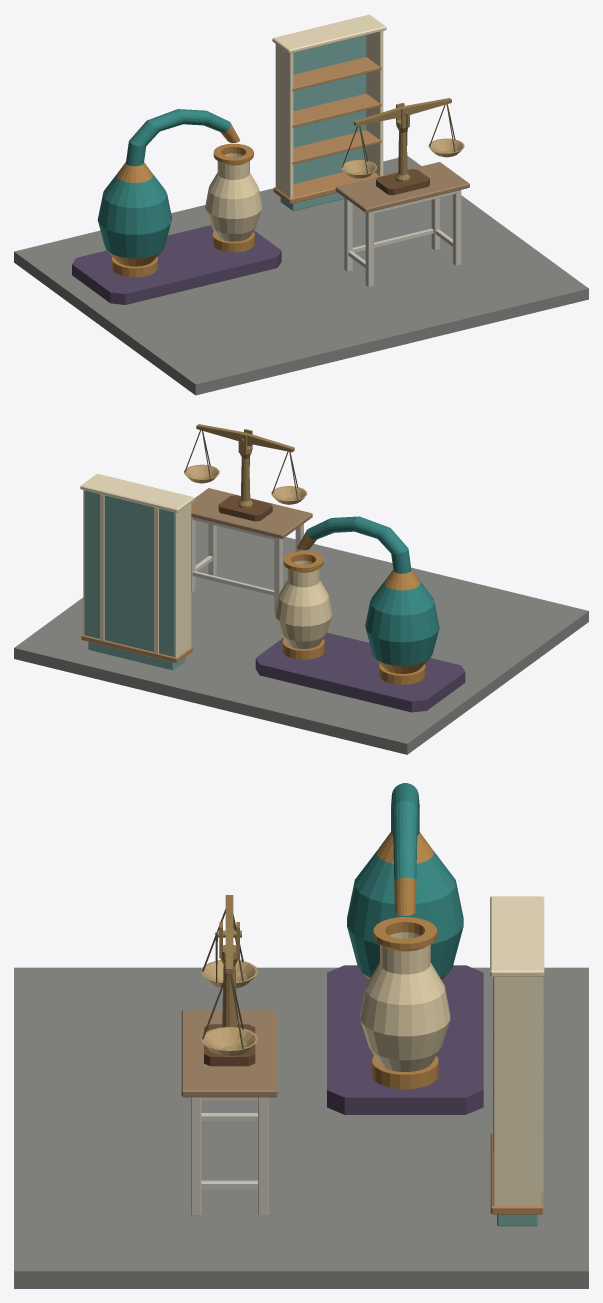
3 renders of one model, top to bottom at view 1: azimuth 30°, elevation 25°; view 2: azimuth 150°, elevation 25°; view 3: azimuth 270°, elevation 25°, orthographic. The views are drawn at different scales.
Parts seen in each view (by area): view 1: SceneOnly_ContinuousFloor, whole_retort__ContinuousSwanNeckRetort, whole_retort__ChamferedDisplayPlinth, whole_bookcase__Inset_backboard, whole_retort__ThickOpenReceiver, whole_bookcase__Side_wall_L, whole_worktable__Complete work surface, whole_bookcase__Crown_cap, whole_bookcase__Side_wall_R, whole_bookcase__Fixed_book_shelf_02, whole_bookcase__Fixed_book_shelf_03, whole_bookcase__Fixed_book_shelf_01 (+12 smaller); view 2: SceneOnly_ContinuousFloor, whole_bookcase__Inset_backboard, whole_retort__ContinuousSwanNeckRetort, whole_retort__ChamferedDisplayPlinth, whole_retort__ThickOpenReceiver, whole_bookcase__Side_wall_L, whole_worktable__Complete work surface, whole_bookcase__Crown_cap, whole_balance__WholeChamferedWalnutBase, whole_bookcase__Floor_plinth, whole_balance__WholeTaperedEqualArmBeam, whole_bookcase__Rear_batten_L (+10 smaller); view 3: SceneOnly_ContinuousFloor, whole_retort__ChamferedDisplayPlinth, whole_retort__ContinuousSwanNeckRetort, whole_bookcase__Side_wall_R, whole_retort__ThickOpenReceiver, whole_worktable__Complete work surface, whole_bookcase__Crown_cap, whole_worktable__Worktable leg.002, whole_worktable__Worktable leg.003, whole_retort__ReceiverPolygonalSeat, whole_balance__RightWholeHollowSuspendedPan, whole_balance__WholeChamferedWalnutBase (+5 smaller).
Boxes of the visible parts, x1,y1,x2,y2 form: SceneOnly_ContinuousFloor: (14, 156, 588, 395); whole_retort__ContinuousSwanNeckRetort: (97, 109, 240, 266); whole_retort__ChamferedDisplayPlinth: (72, 225, 281, 304); whole_bookcase__Inset_backboard: (293, 35, 366, 183); whole_retort__ThickOpenReceiver: (205, 143, 262, 241); whole_bookcase__Side_wall_L: (275, 44, 293, 198); whole_worktable__Complete work surface: (335, 162, 469, 212); whole_bookcase__Crown_cap: (272, 14, 386, 53); whole_bookcase__Side_wall_R: (366, 31, 383, 176); whole_bookcase__Fixed_book_shelf_02: (292, 93, 381, 127); whole_bookcase__Fixed_book_shelf_03: (292, 57, 381, 91); whole_bookcase__Fixed_book_shelf_01: (292, 130, 381, 164); SceneOnly_ContinuousFloor: (14, 520, 588, 754); whole_bookcase__Inset_backboard: (84, 490, 174, 656); whole_retort__ContinuousSwanNeckRetort: (297, 516, 439, 673); whole_retort__ChamferedDisplayPlinth: (255, 632, 465, 712); whole_retort__ThickOpenReceiver: (275, 551, 332, 648); whole_bookcase__Side_wall_L: (174, 503, 191, 657); whole_worktable__Complete work surface: (191, 488, 312, 539); whole_bookcase__Crown_cap: (80, 473, 194, 512); whole_balance__WholeChamferedWalnutBase: (218, 495, 272, 521); whole_bookcase__Floor_plinth: (88, 642, 185, 670); whole_balance__WholeTaperedEqualArmBeam: (196, 424, 294, 452); whole_bookcase__Rear_batten_L: (154, 507, 158, 654); SceneOnly_ContinuousFloor: (14, 967, 588, 1288); whole_retort__ChamferedDisplayPlinth: (327, 965, 483, 1114); whole_retort__ContinuousSwanNeckRetort: (347, 783, 463, 979); whole_bookcase__Side_wall_R: (493, 977, 540, 1205); whole_retort__ThickOpenReceiver: (360, 917, 450, 1071); whole_worktable__Complete work surface: (181, 1010, 277, 1097); whole_bookcase__Crown_cap: (490, 896, 544, 976); whole_worktable__Worktable leg.002: (191, 1097, 201, 1215); whole_worktable__Worktable leg.003: (258, 1097, 268, 1215); whole_retort__ReceiverPolygonalSeat: (372, 1056, 438, 1089); whole_balance__RightWholeHollowSuspendedPan: (201, 1026, 257, 1056); whole_balance__WholeChamferedWalnutBase: (204, 1024, 255, 1066).
Bounding box in the file's own units: 4.5 × 1.92 × 3.6.
